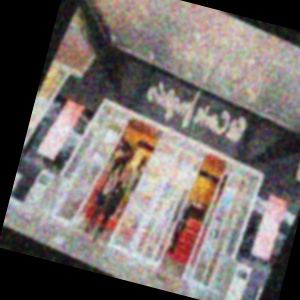corte_ingles: (200, 48, 300, 145)
